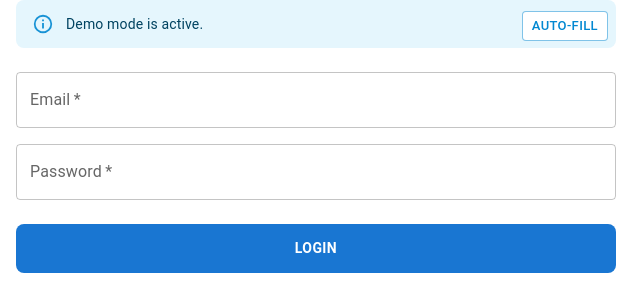
Test: LoginForm demo mode › offers the demo account when an admin turned demo mode on
The image size is (633, 290).
Click the button "Auto-Fill": coordinates (565, 26) [522, 11, 608, 41]
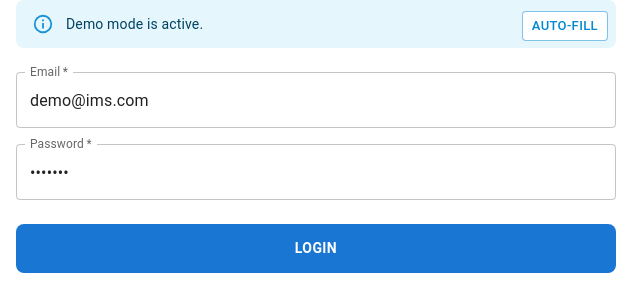
Expected: the field labelled "Email *" holds "demo@ims.com", [16, 72, 616, 128]
Expected: the password field labelled "Password *" holds "demo123", [16, 144, 616, 200]
